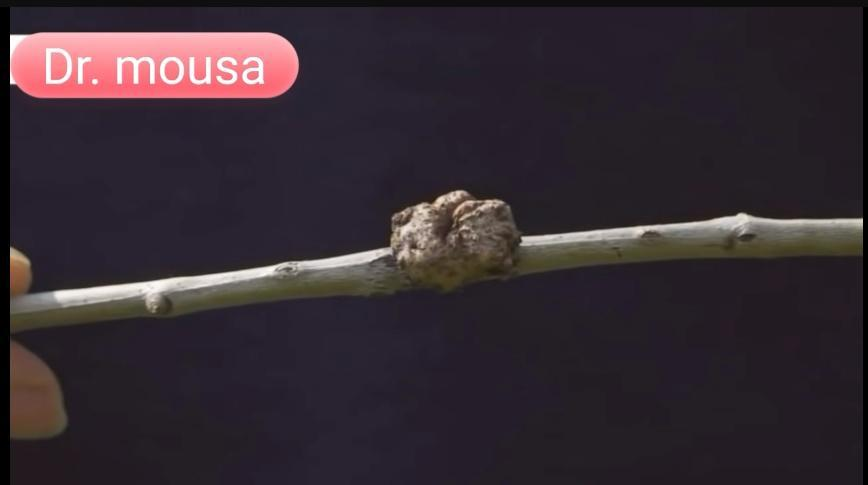Tuberculosis: (385, 184, 528, 296)
